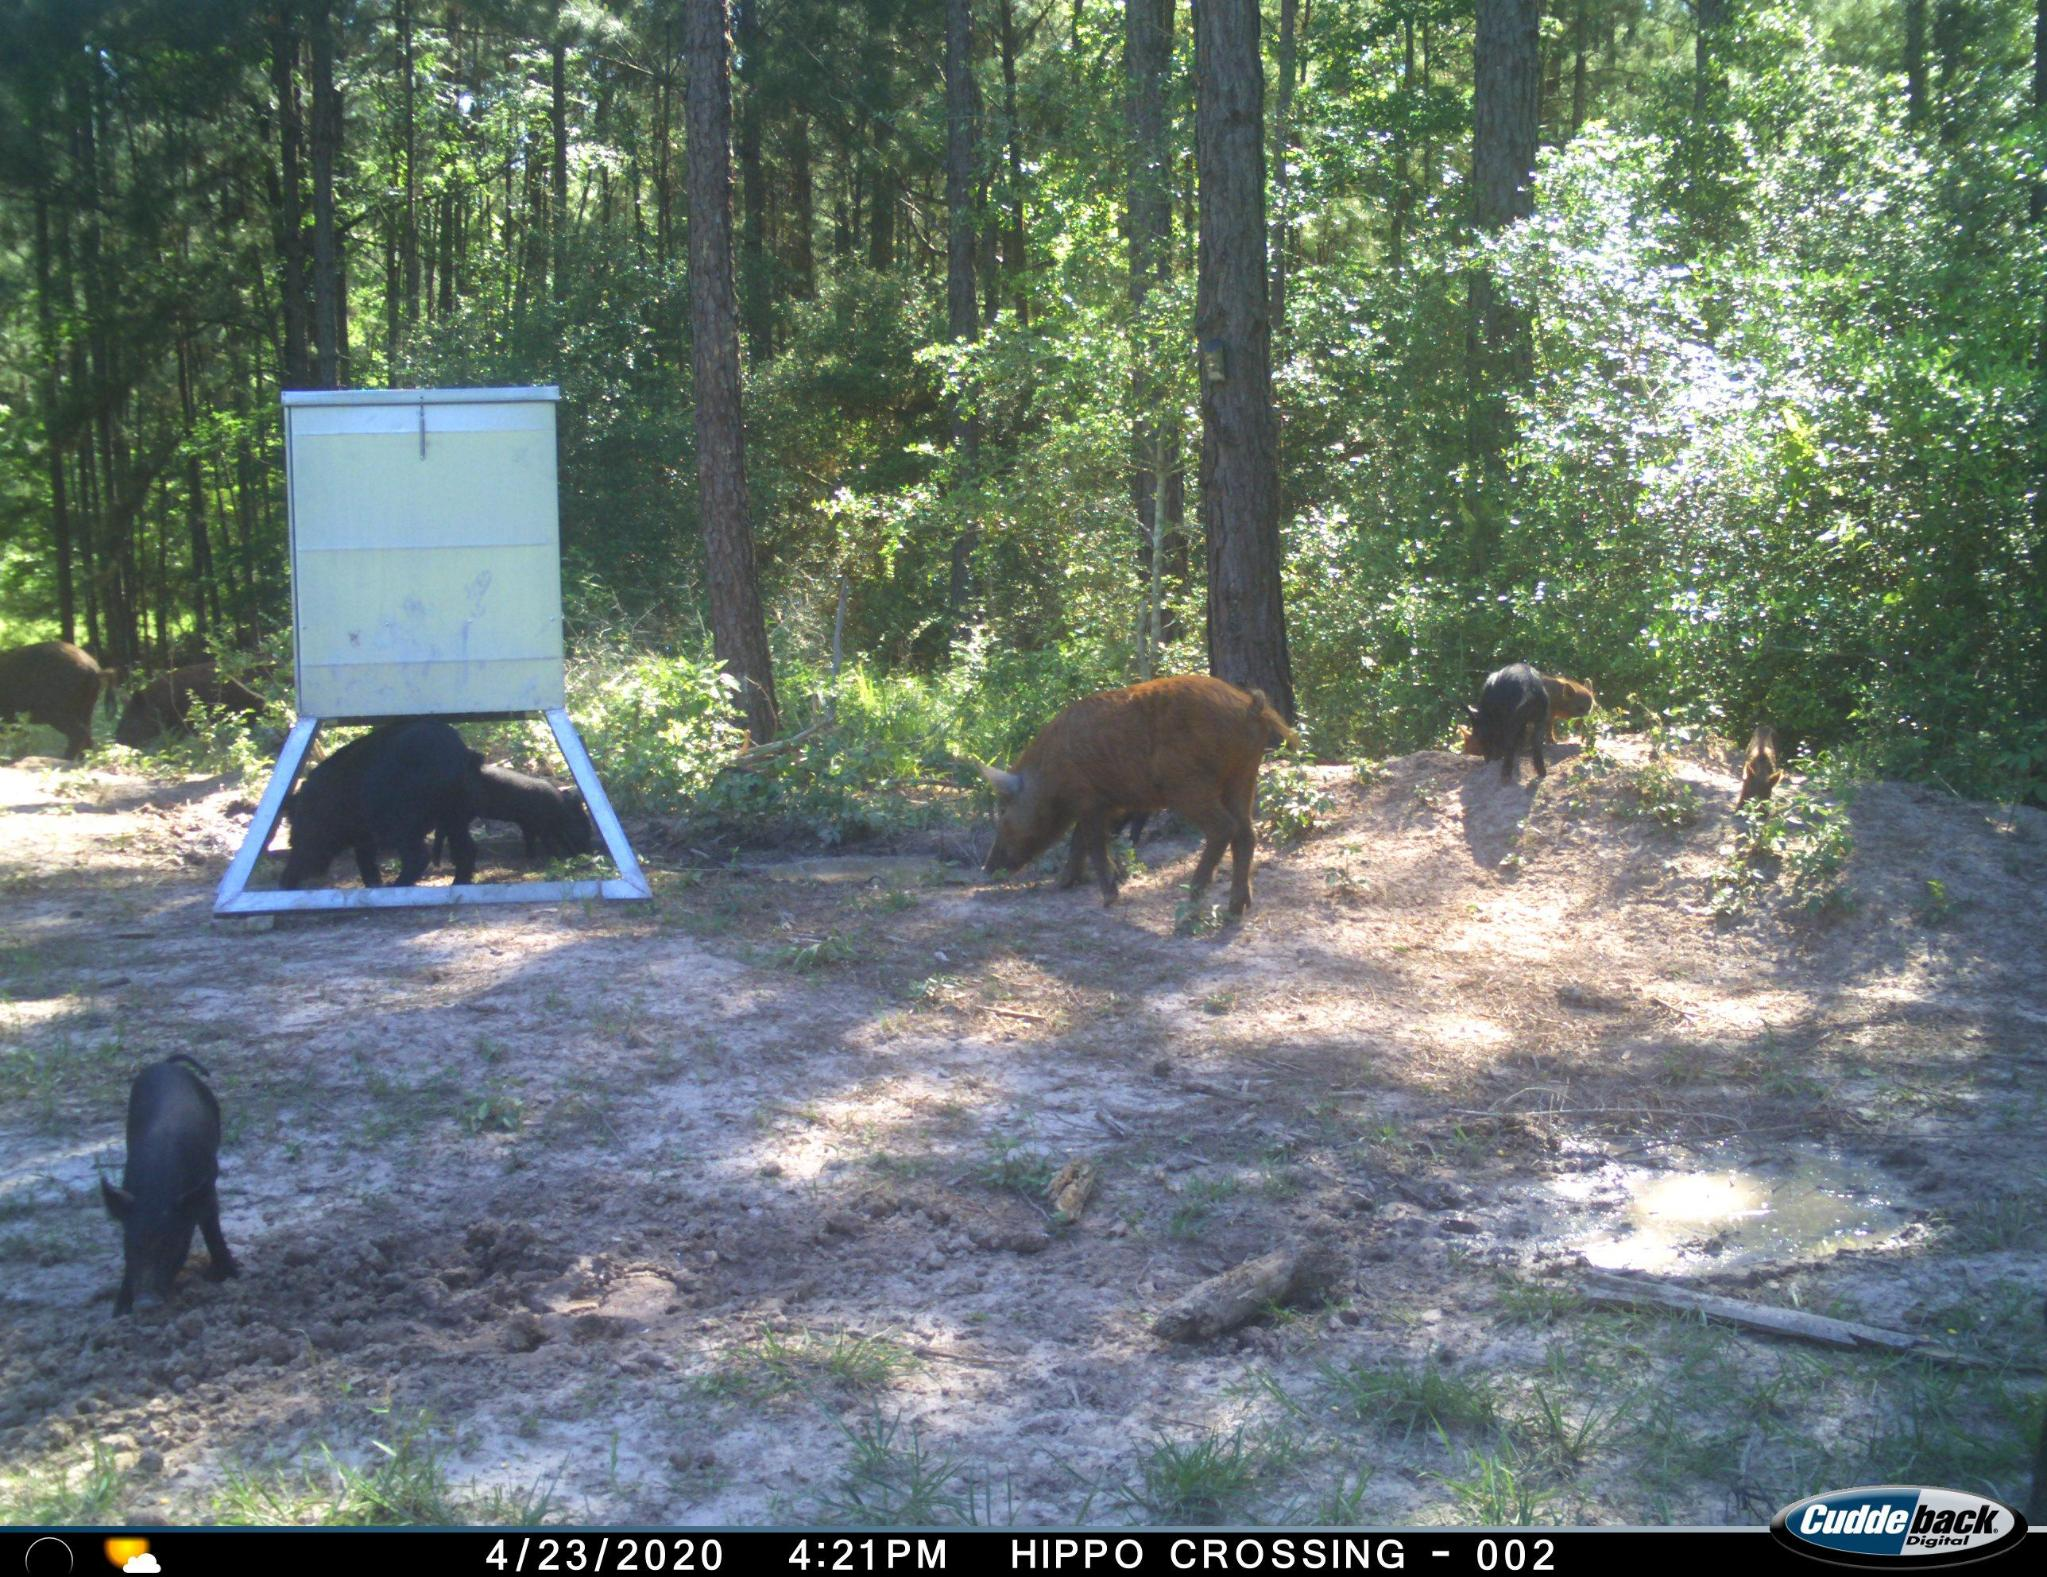Hog: (966, 669, 1298, 928), (272, 724, 495, 903), (93, 1050, 243, 1309), (472, 737, 598, 878), (114, 654, 265, 770), (0, 636, 116, 760), (1471, 661, 1557, 780), (1731, 707, 1784, 812)
